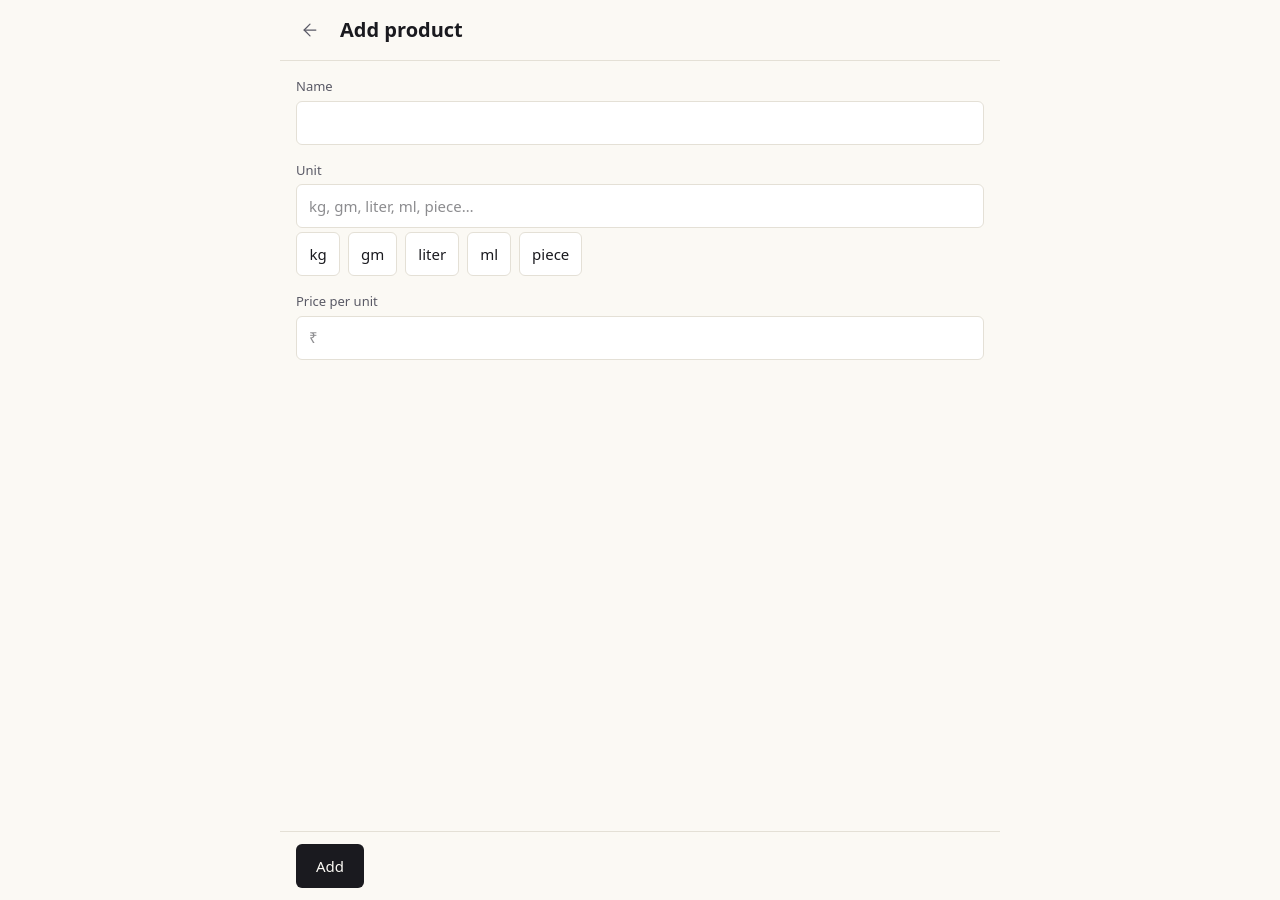
Test: Add product and Edit product › Add product: labels, and the domain's refusals said in the language - in en
Expected: the heading "Add product" is shown, [340,15,463,45]
Expected: the text "Price per unit" is shown, [296,292,378,310]
Click the button "Add": point(330, 866) [296,844,364,888]
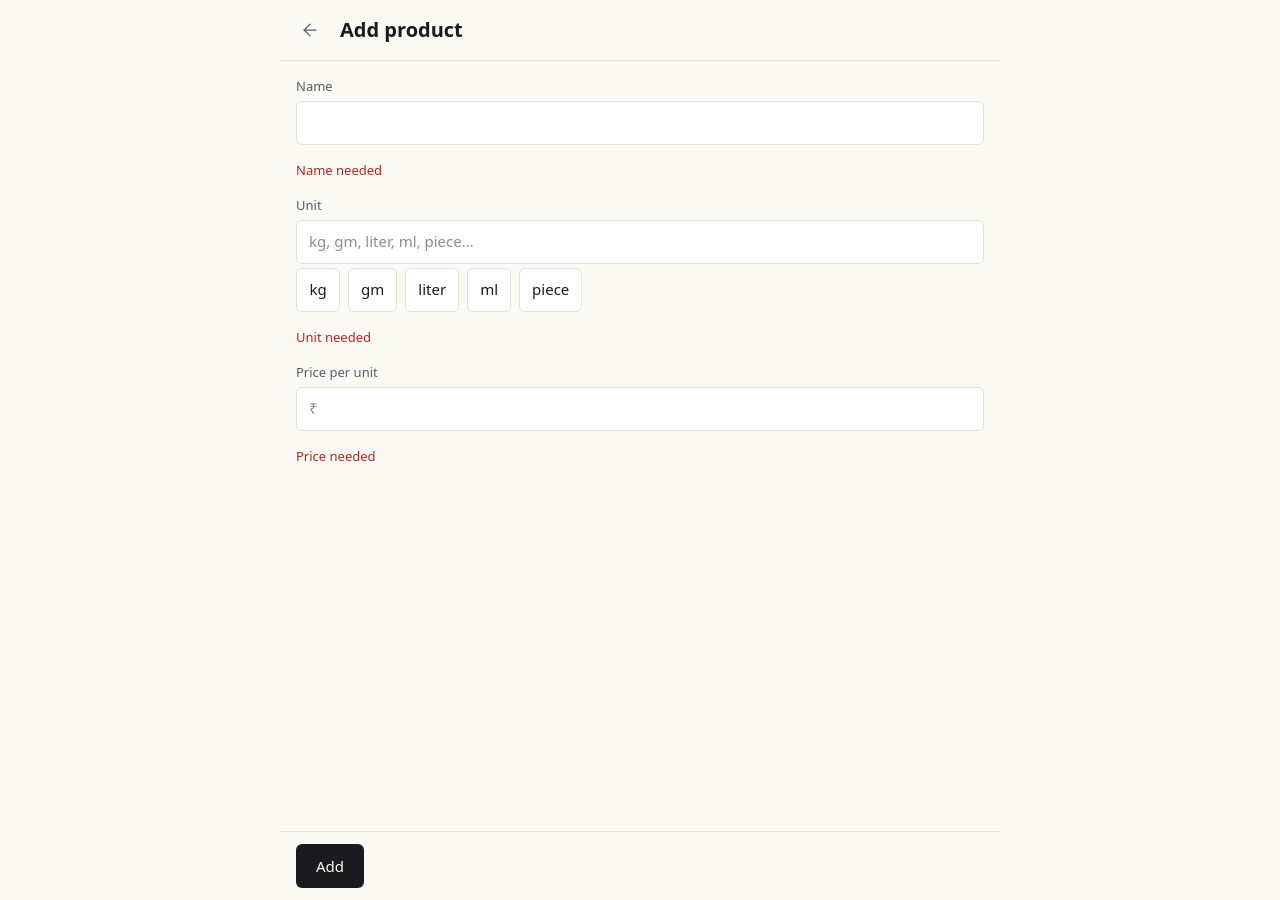
Result: the message "Name needed" is shown at [296,160,382,178]
Result: the message "Unit needed" is shown at [296,328,371,346]
Result: the message "Price needed" is shown at [296,446,376,464]
